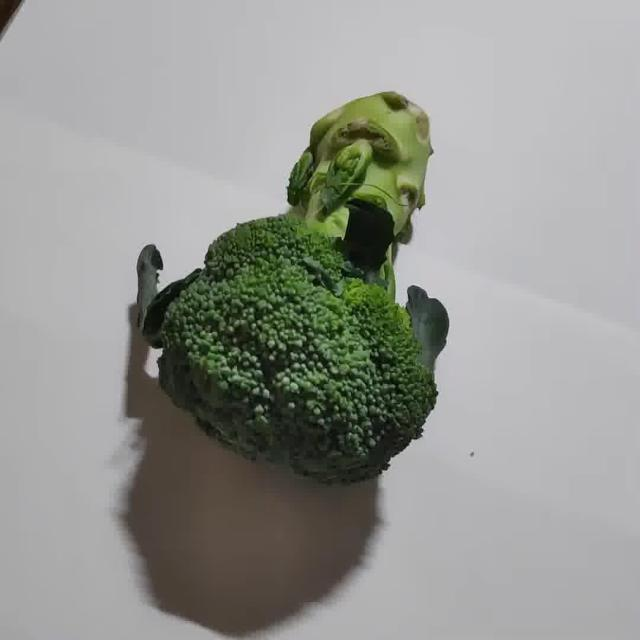Broccoli: (143, 91, 447, 482)
